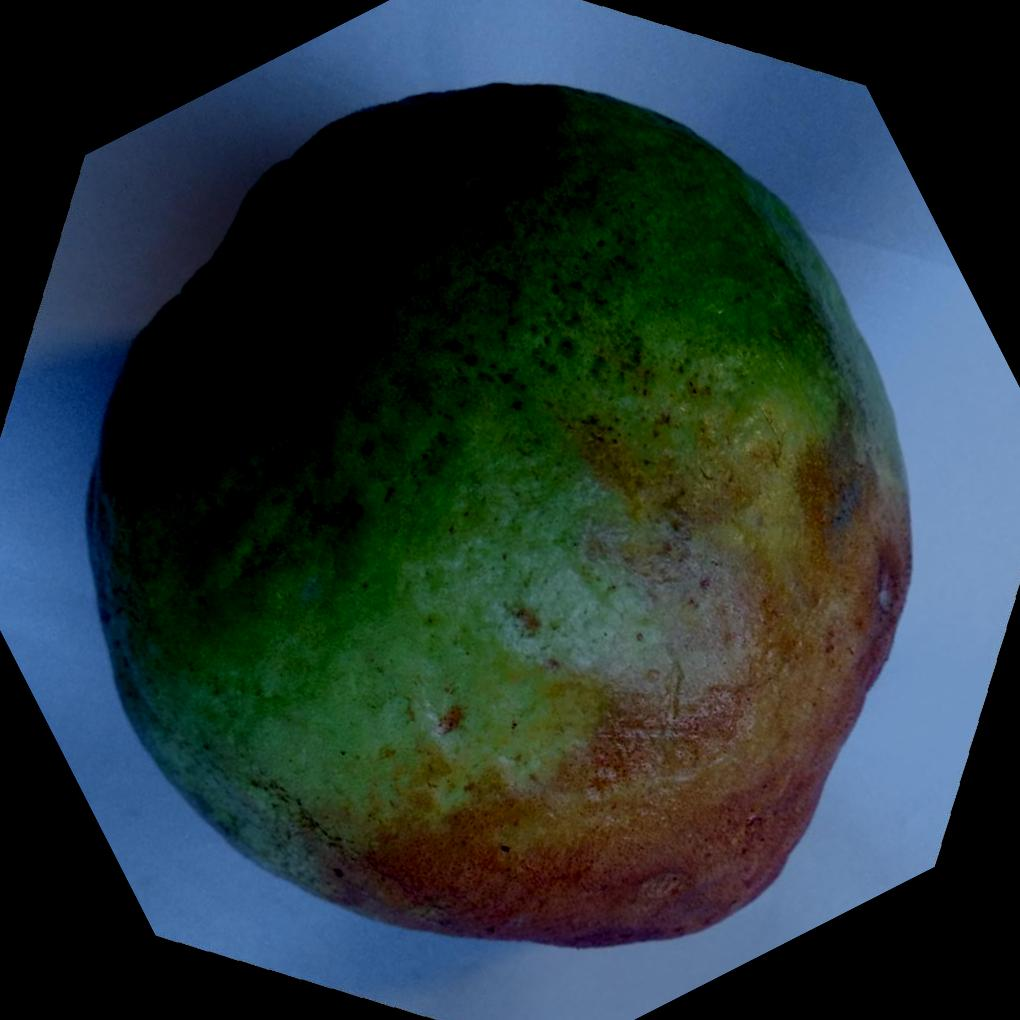FreshOrange: (81, 81, 910, 949)
